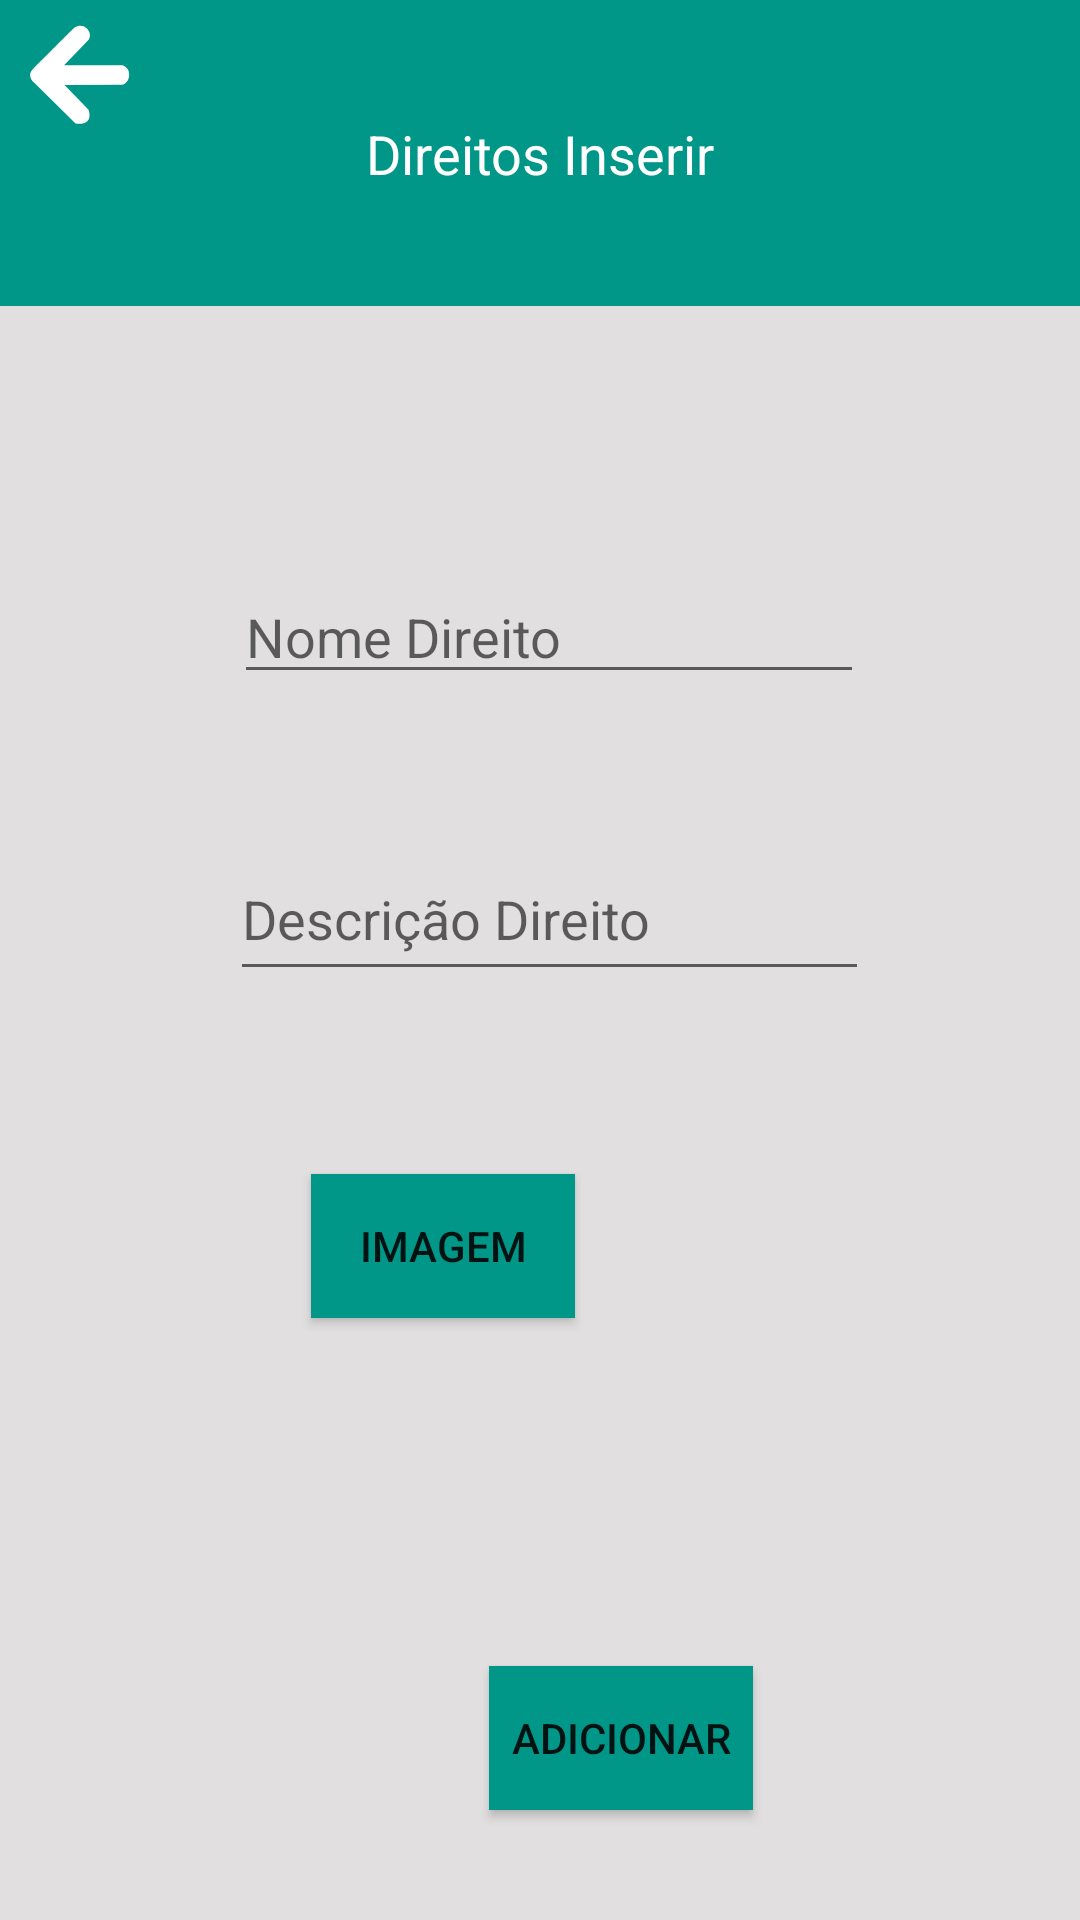

Icon bounding boxes for this 1080px×1920px phone screenshot, format bbox=[x1, y1, x2, y2]:
seta: bbox=[30, 25, 130, 124]
